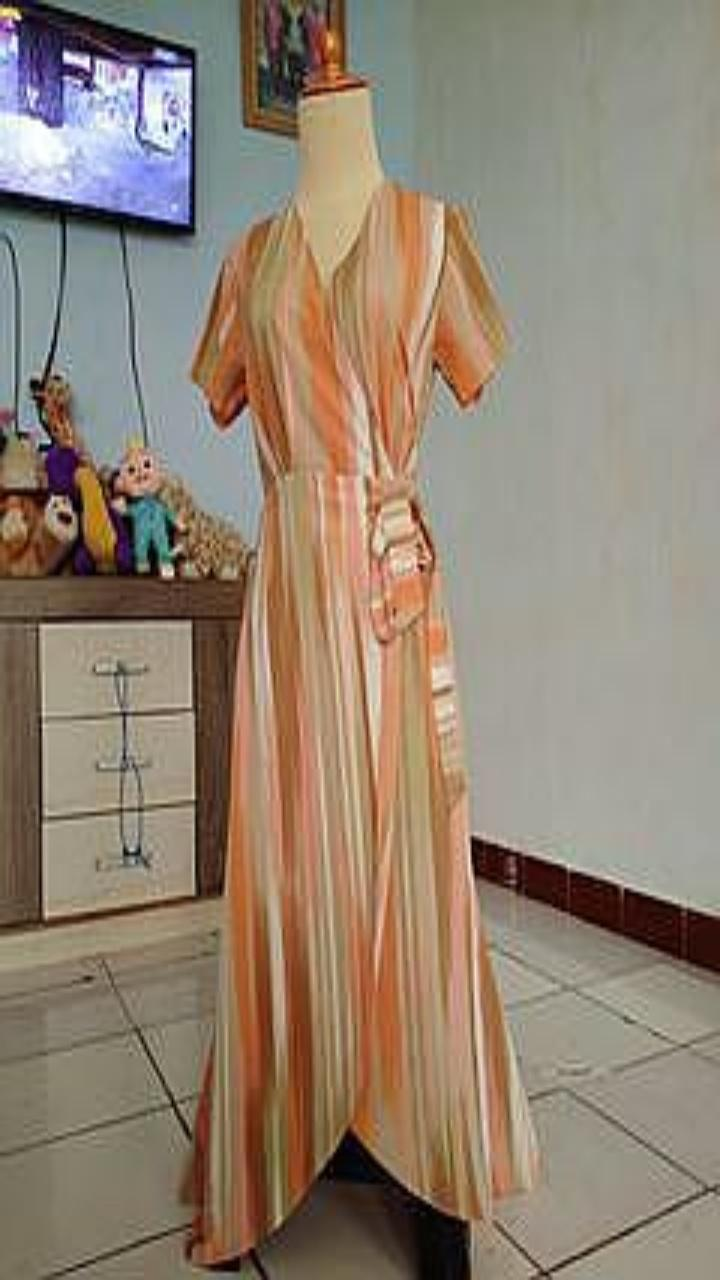Dresses: (186, 180, 536, 1263)
